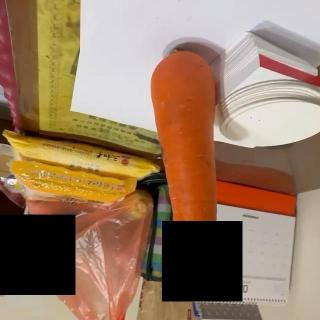carrot: (150, 48, 218, 282)
